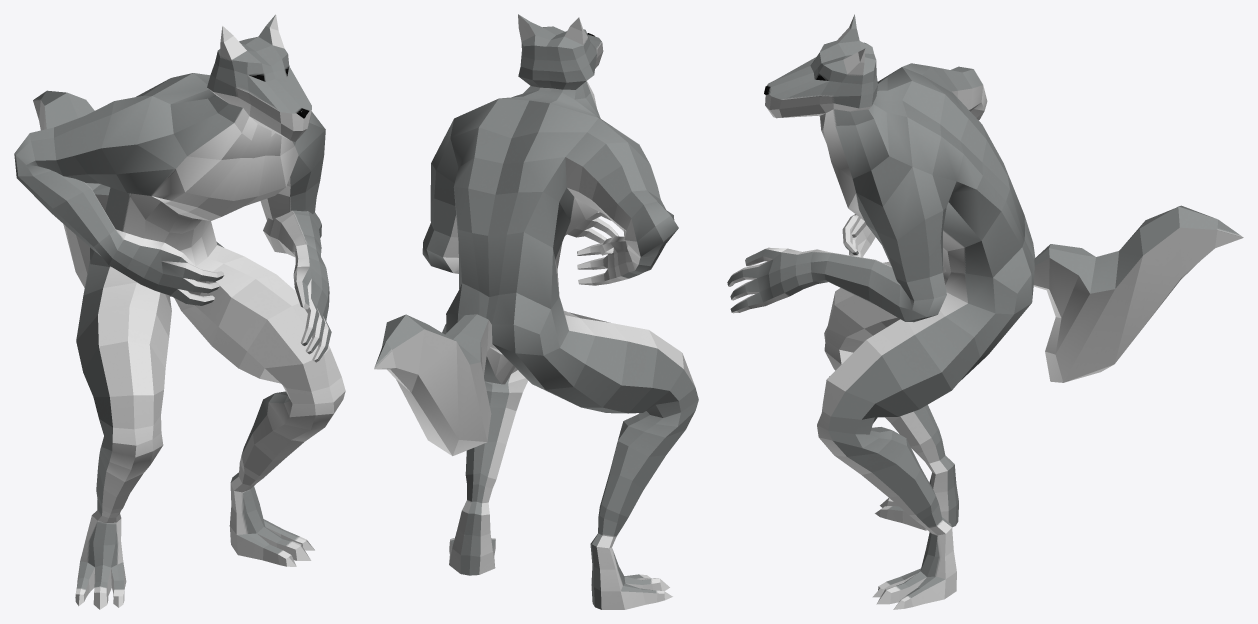
Rendered from WolfIdle_(26).obj.
3 views of the same model, side by side, from view 1: azimuth 30°, elevation 25°; view 2: azimuth 150°, elevation 25°; view 3: azimuth 270°, elevation 25° (orthographic). The views are drawn at different scales.
Parts seen in each view (by area): view 1: Box001; view 2: Box001; view 3: Box001.
Part boxes in pixels (<box>): Box001: <box>14,14,345,609</box>; Box001: <box>374,14,698,609</box>; Box001: <box>727,14,1243,609</box>.
Bounding box in the file's own units: 69.52 × 134 × 115.
